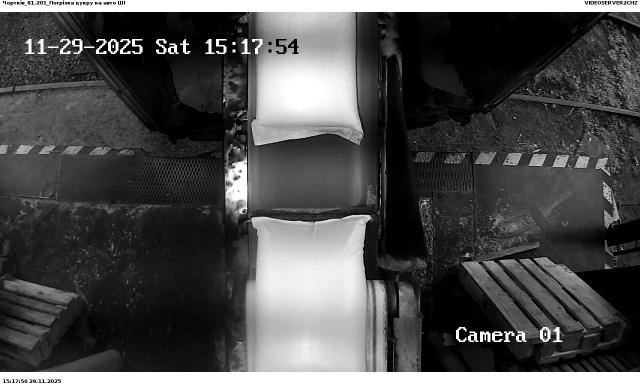bag: (252, 215, 372, 372), (252, 12, 364, 145)
